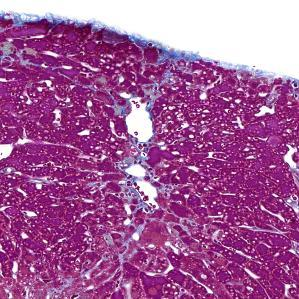fibrosis: (154, 50, 193, 86), (125, 141, 153, 182)
